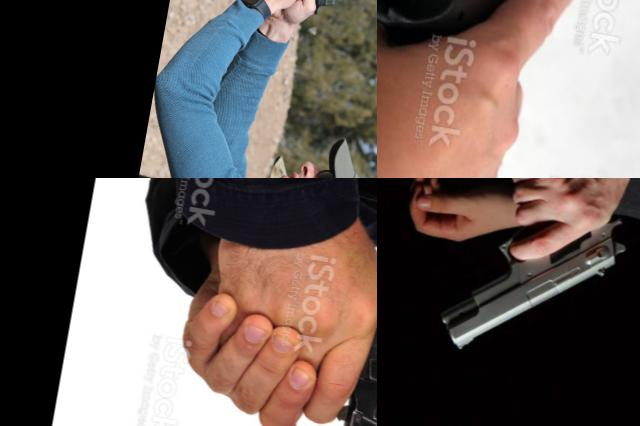handgun: (432, 178, 640, 378), (377, 0, 631, 131), (253, 250, 377, 426), (282, 0, 355, 35)
